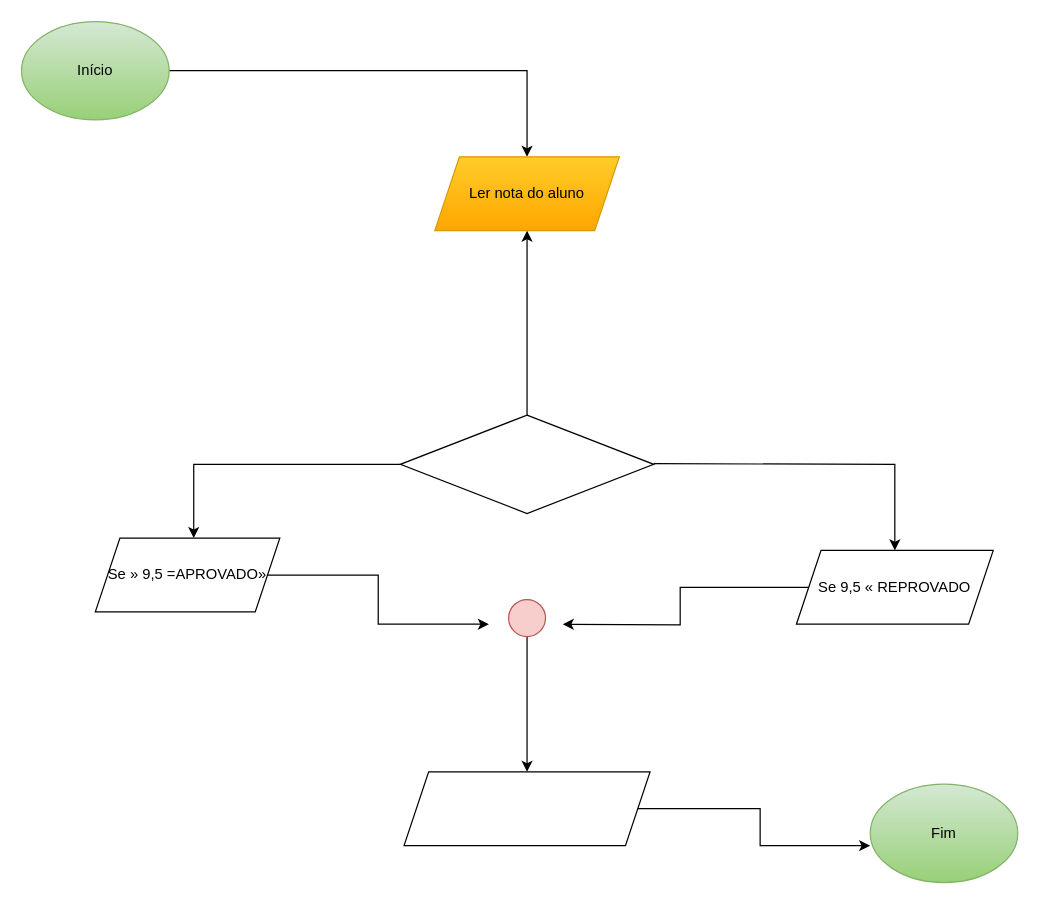
Some shapes in this 1039 by 904 pixel diagram are drawn without their labels. The centre of each missing label's shape, as x and y in pixels:
escrever NOTA_DO_ALUNO: (x=526, y=808)
Nota_do_aluno»9,5: (x=526, y=464)
